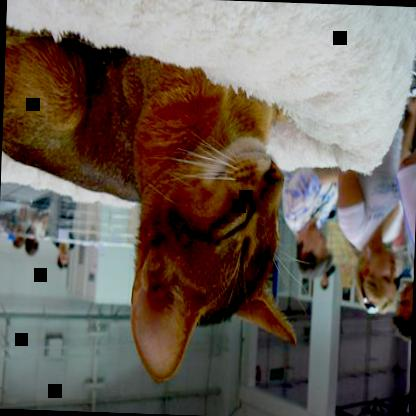cat: (0, 25, 308, 387)
